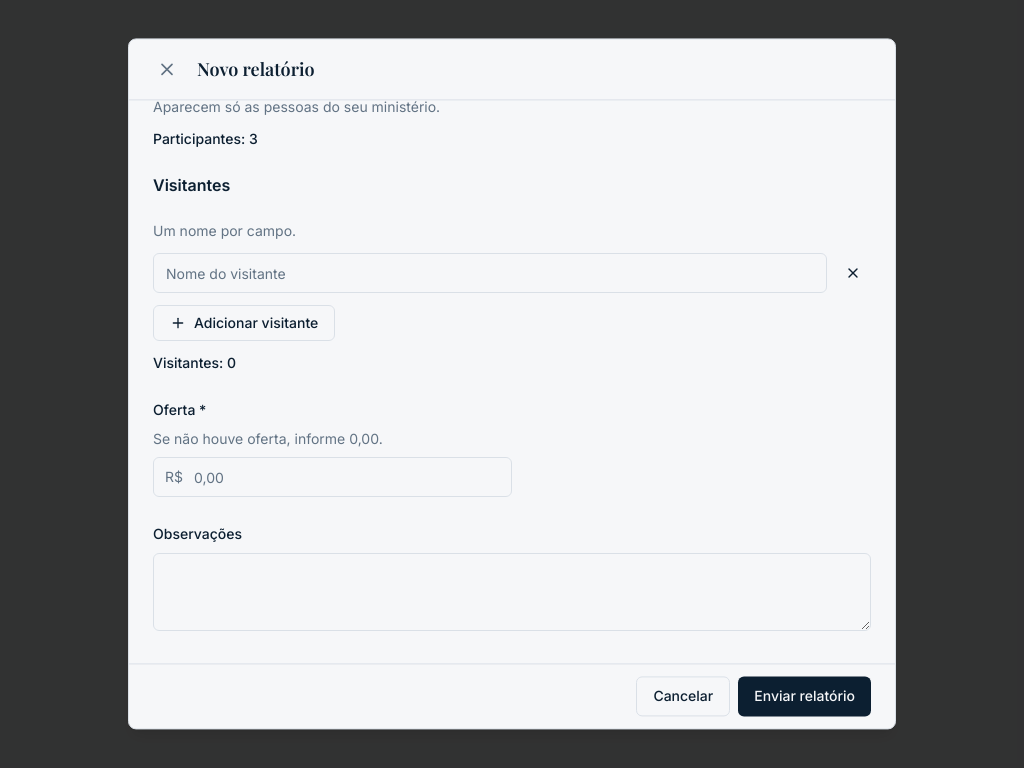
P-REL-29, P107, RN-14: a nova tentativa e o id do envio › UX-28: depois de uma queda, a nova tentativa envia o mesmo _report_id e o seletor de célula fica travado
Earlier steps of the test are not shown.
Later steps or results of the test are not shown.
(page scrolled)
Type "0" into the field labelled "Oferta *" at (332, 478), box x1=153 y1=458 x2=512 y2=498
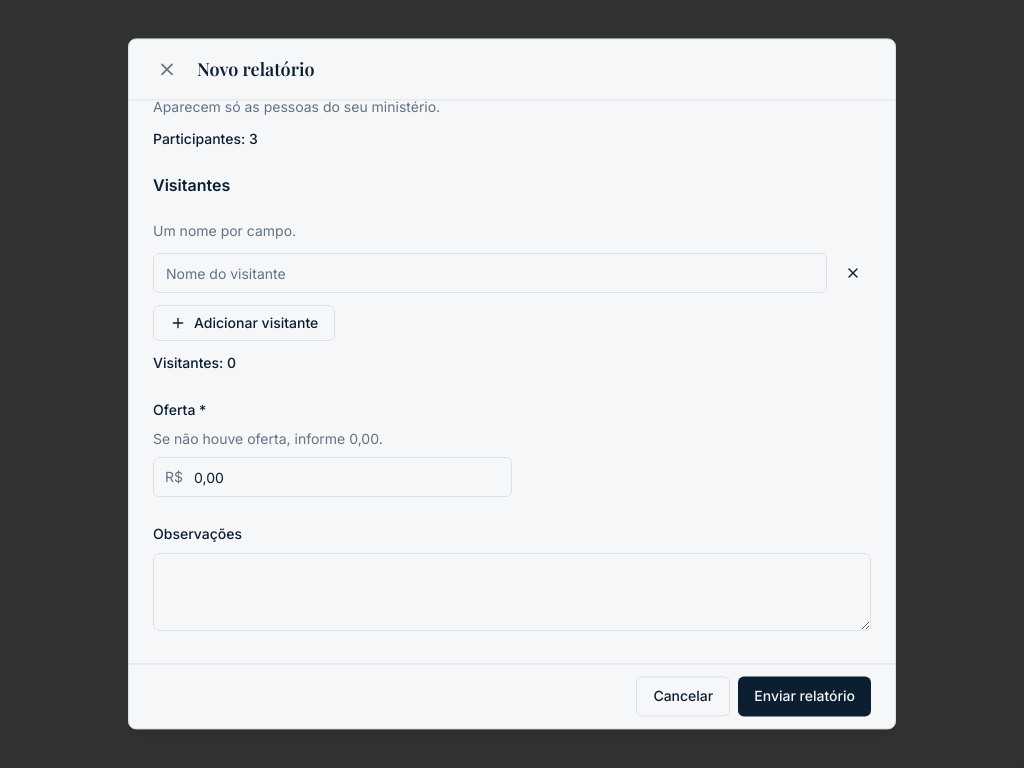
Click the button "Enviar relatório" at (805, 697), box x1=738 y1=677 x2=871 y2=717
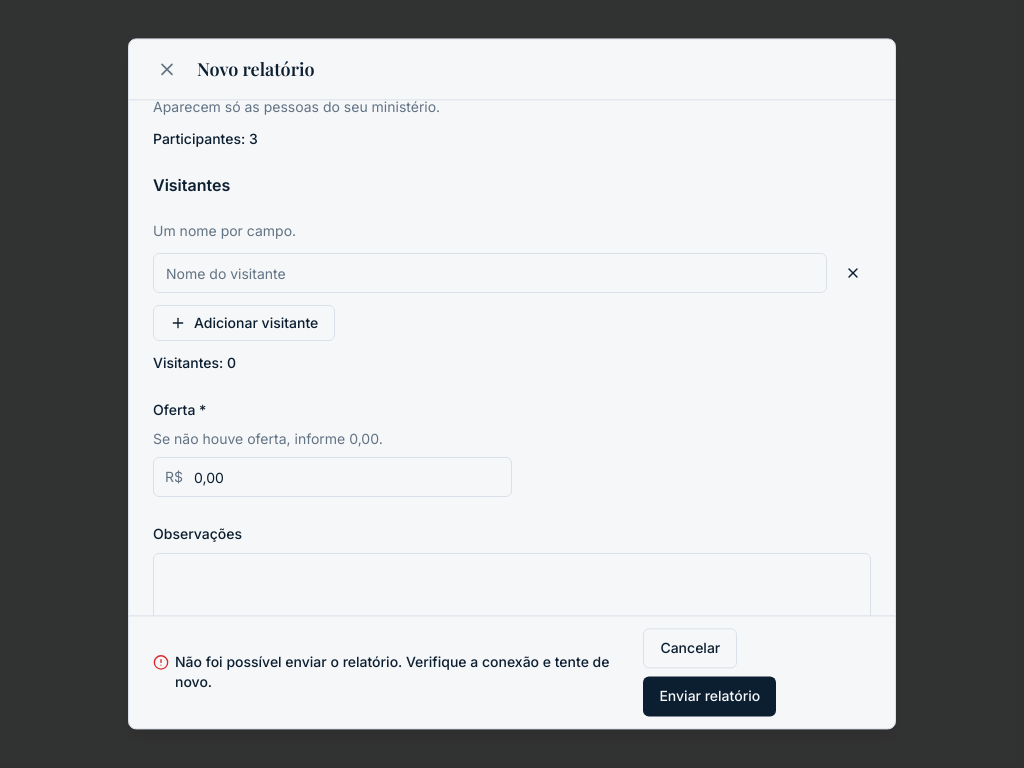
Result: the text "Não foi possível enviar o relatório. Verifique a conexão e tente de novo." is shown at x1=175 y1=653 x2=635 y2=693
